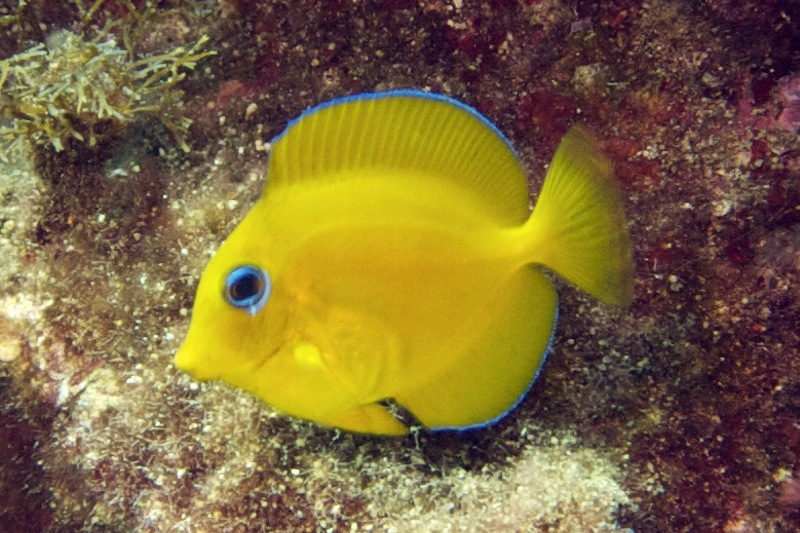Acanthurus_coeruleus: (173, 86, 640, 441)
